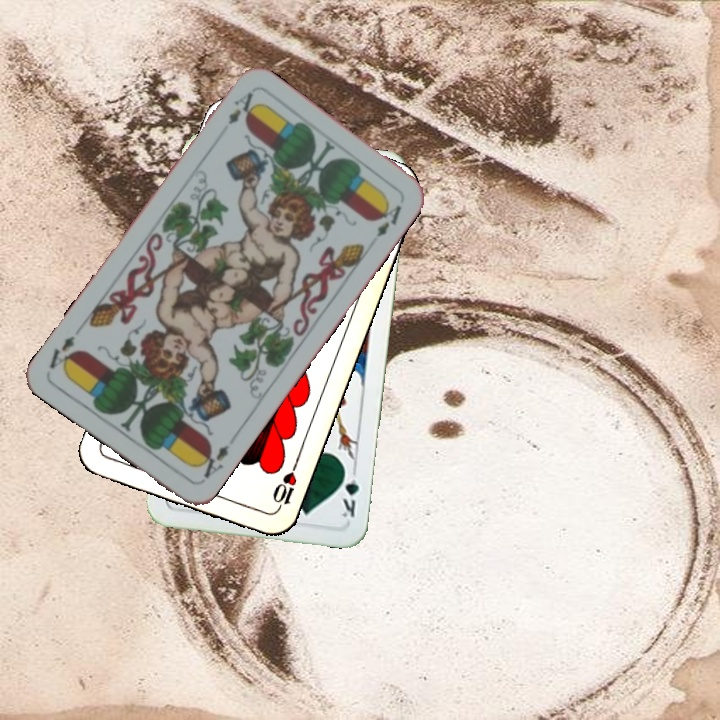EA: (193, 439, 234, 484), (223, 88, 258, 127)
GK: (337, 463, 361, 520)
H10: (268, 458, 301, 515)
